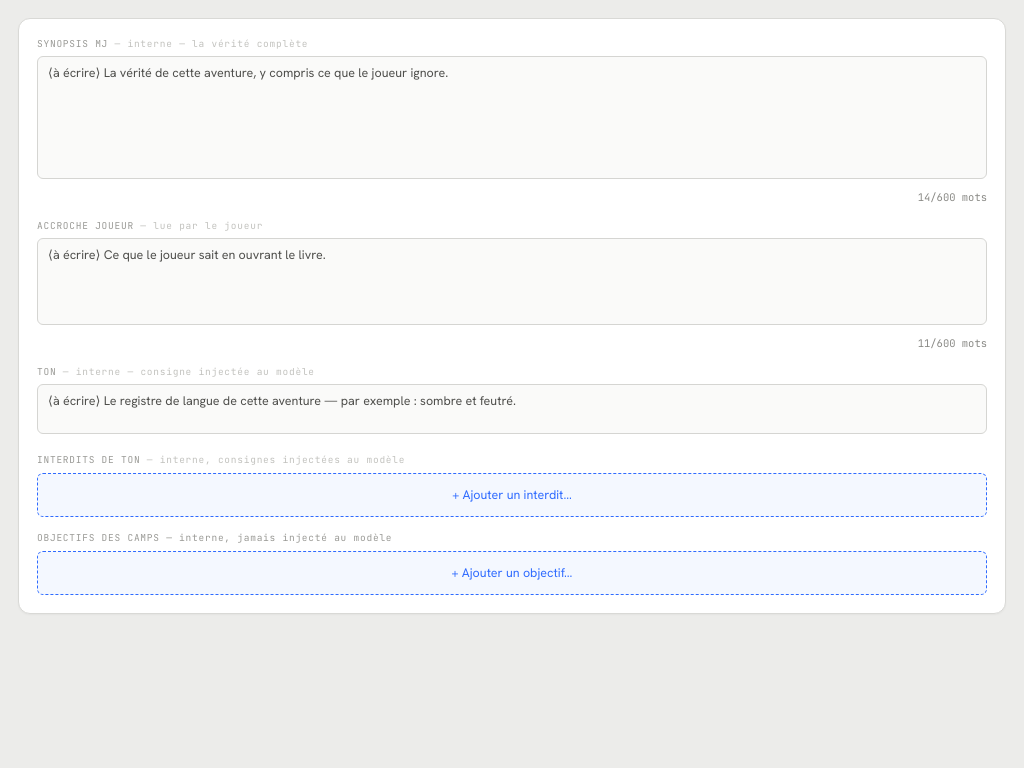
Test: PanneauCanon › le bandeau de refus sur un champ survit a un commit reussi sur un AUTRE champ (revue de PR, tour 2)
Clear the text box labelled "SYNOPSIS MJ — interne — la vérité complète" at x=512, y=117, box top-left (37, 56), bottom-right (987, 179)
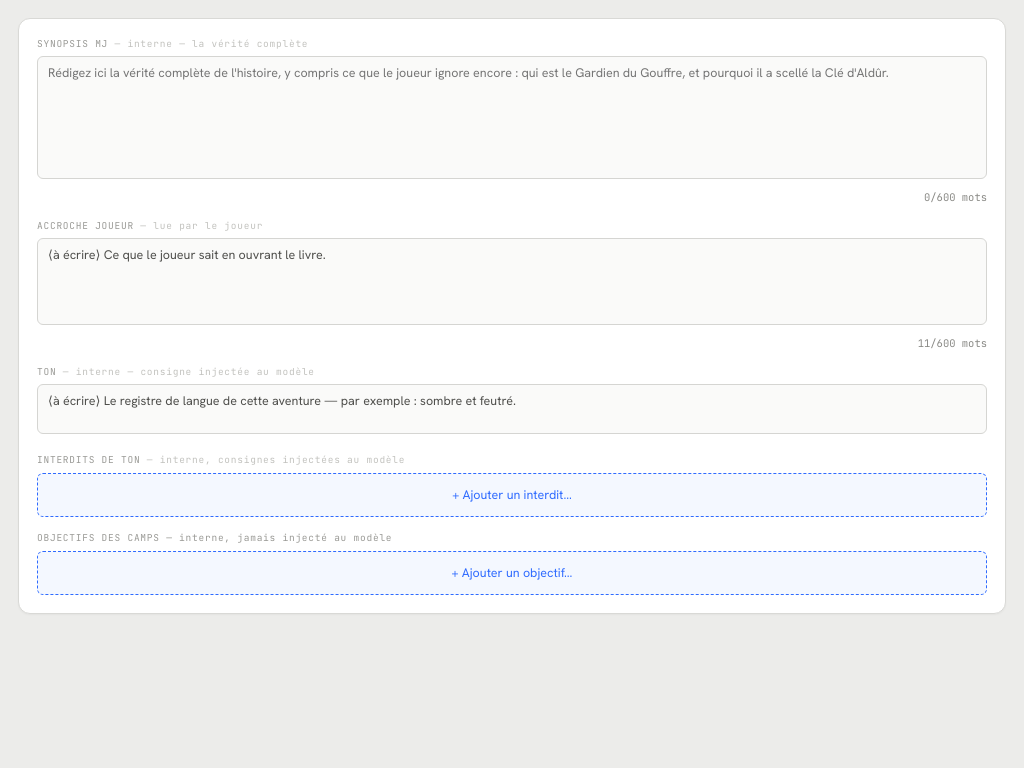
Leave the text box labelled "SYNOPSIS MJ — interne — la vérité complète", box top-left (37, 56), bottom-right (987, 179)
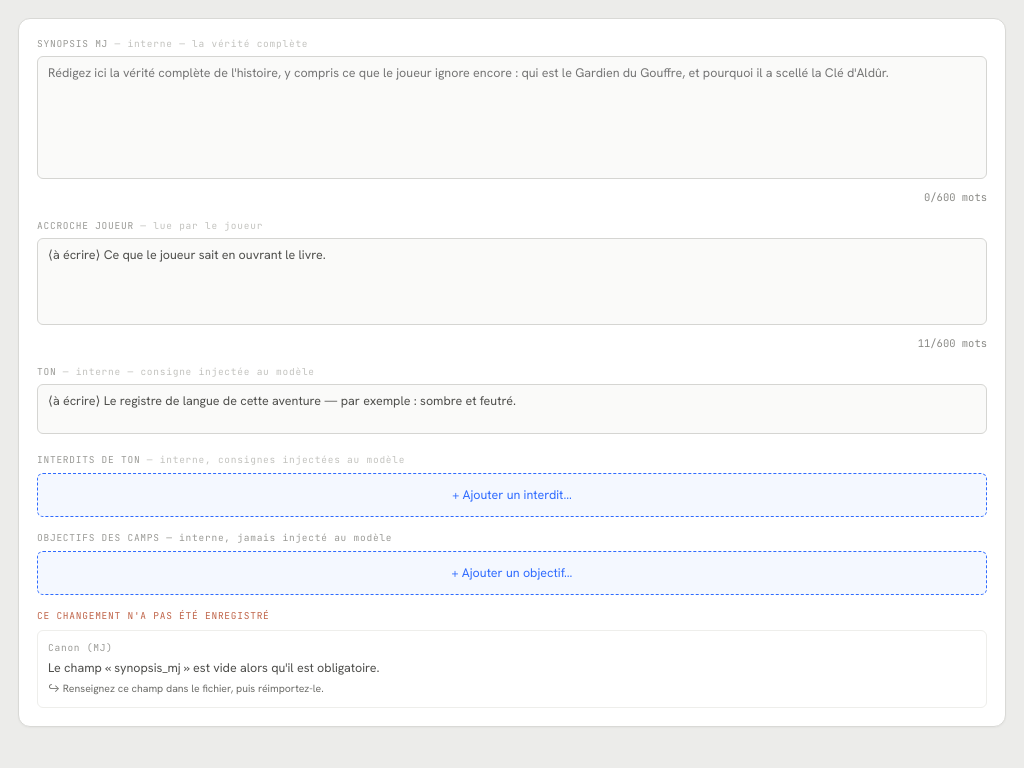
Now the message shows "CE CHANGEMENT N'A PAS ÉTÉ ENREGISTRÉ", box top-left (37, 609), bottom-right (270, 622)
Replace the text in the text box labelled "TON — interne — consigne injectée au modèle" with "Grave, sombre." at x=512, y=409, box top-left (37, 384), bottom-right (987, 434)
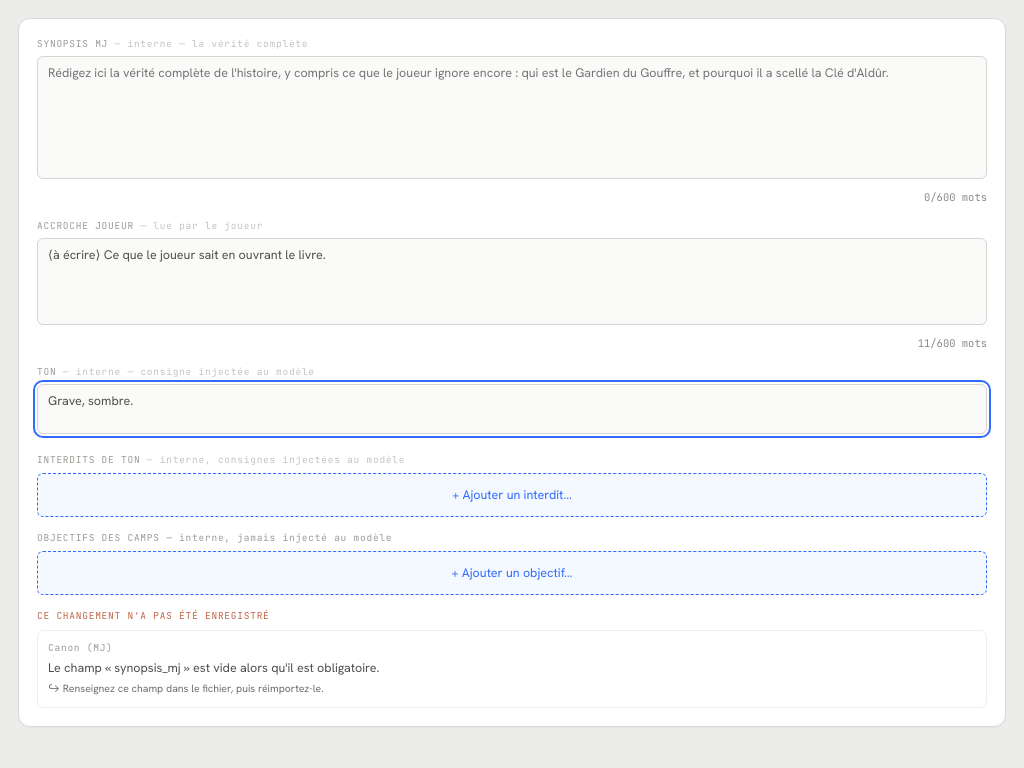
Press Tab
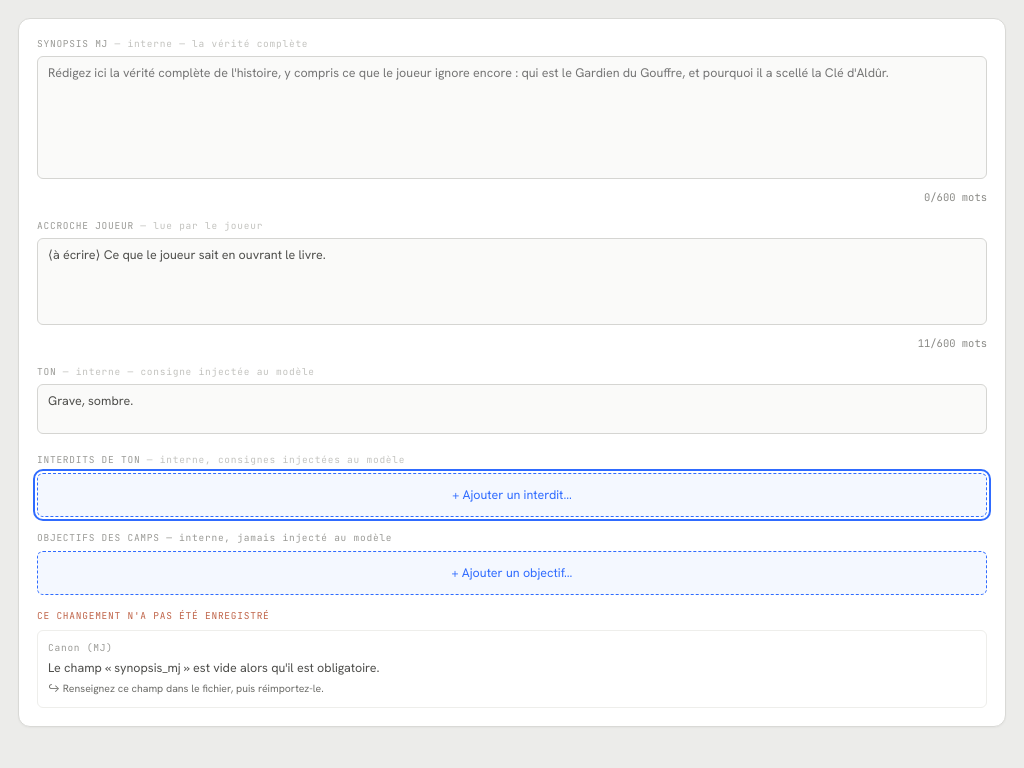
Now the message shows "CE CHANGEMENT N'A PAS ÉTÉ ENREGISTRÉ", box top-left (37, 609), bottom-right (270, 622)
Replace the text in the text box labelled "SYNOPSIS MJ — interne — la vérité complète" with "Une verite suffisante." at x=512, y=117, box top-left (37, 56), bottom-right (987, 179)
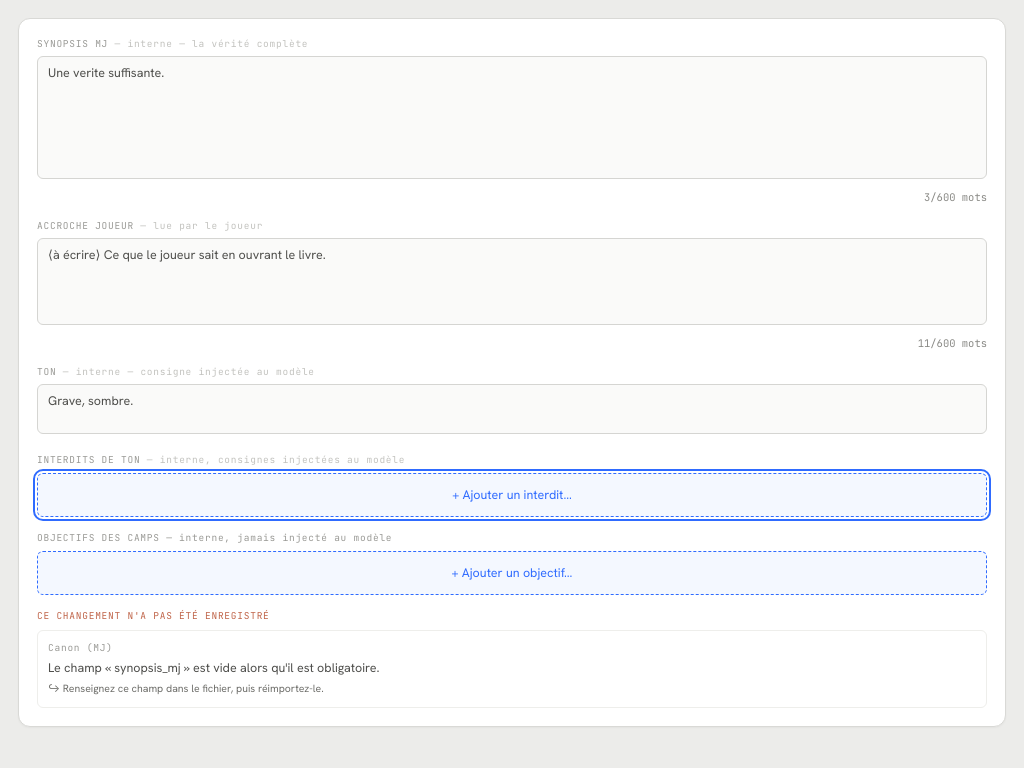
Leave the text box labelled "SYNOPSIS MJ — interne — la vérité complète", box top-left (37, 56), bottom-right (987, 179)
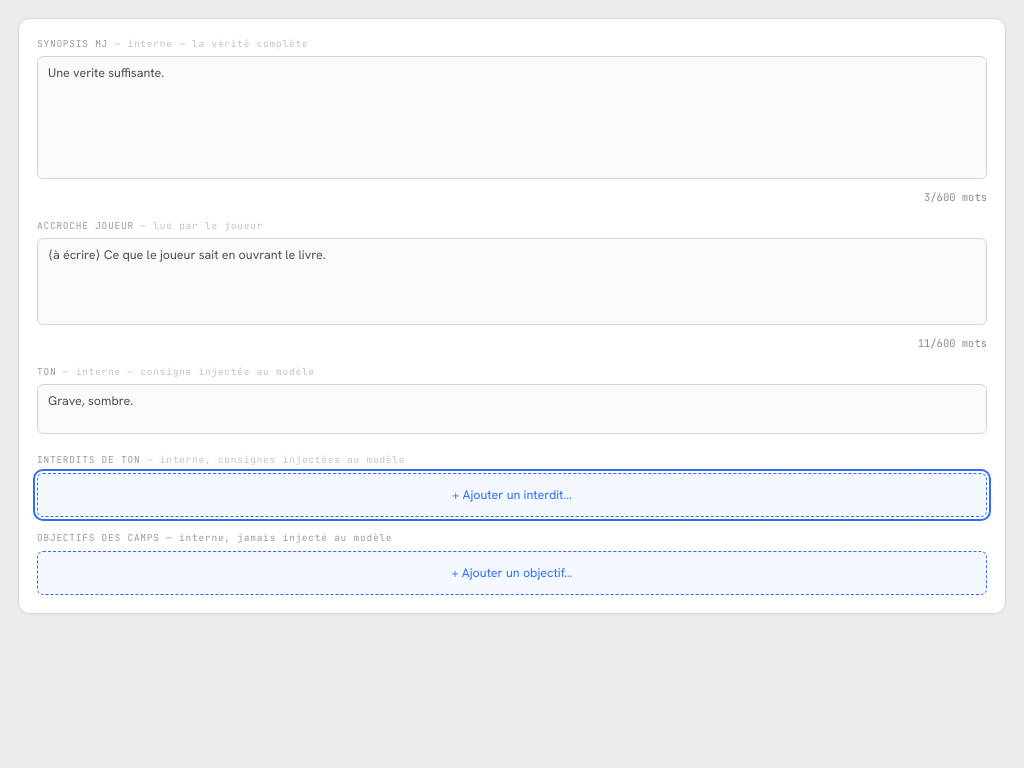
Now the message is gone
